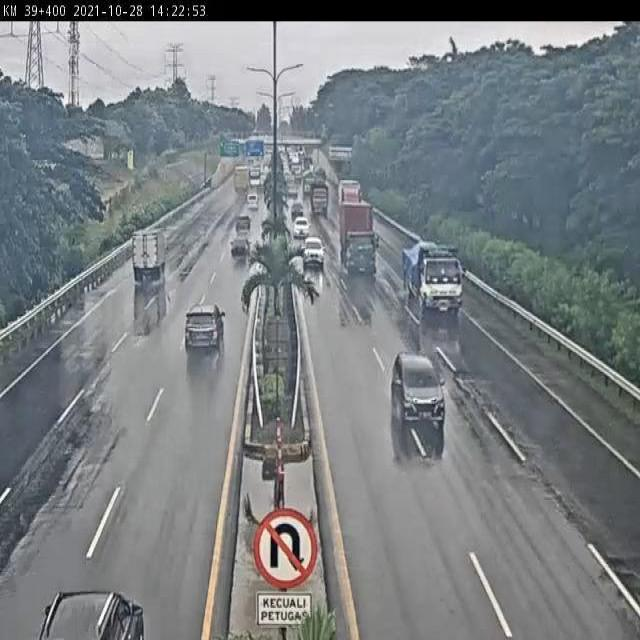truck-l-: (407, 245, 463, 319)
truck-m-: (133, 229, 170, 284)
truck-xl-: (340, 202, 382, 282)
